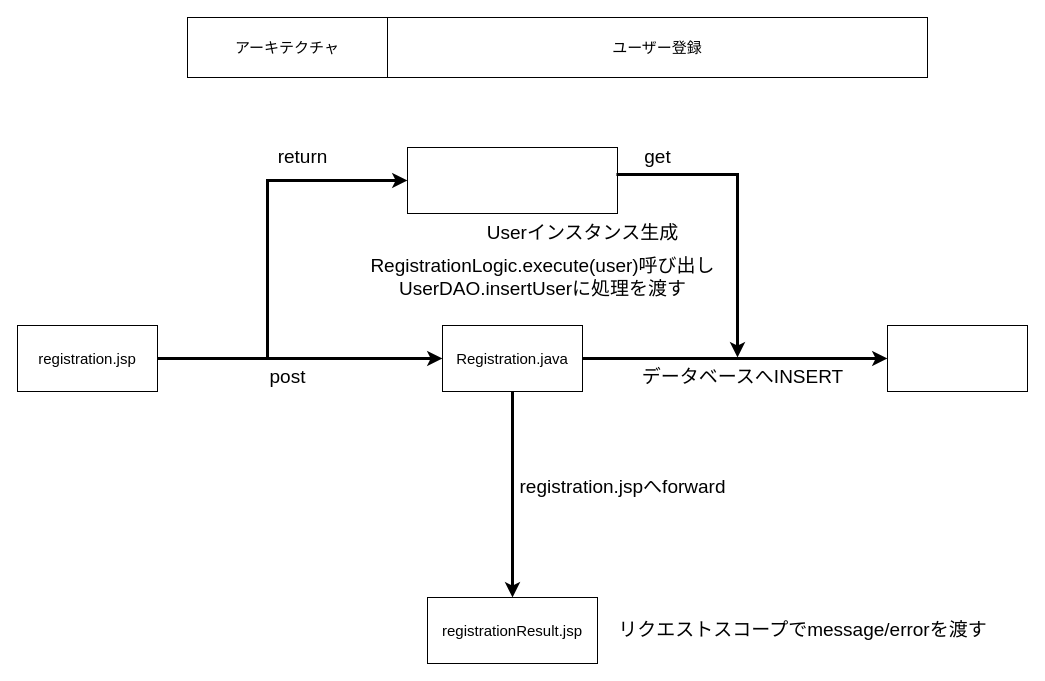
This 1045x681 diagram has some shape labels left out. The shapes that lost their labels are listed below. From the top down, each one's centre as x and y in pixels, then its label:
(x=512, y=180): RegistrationLogic.java
(x=957, y=358): UserDAO.java
